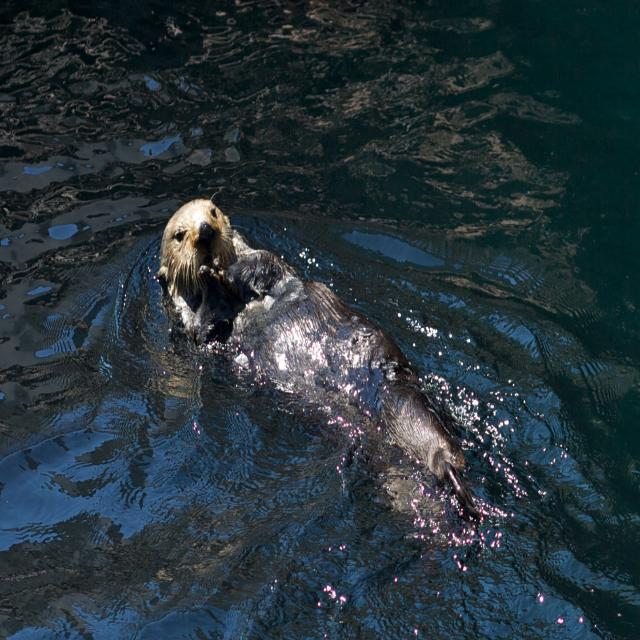otter: (164, 197, 464, 487)
